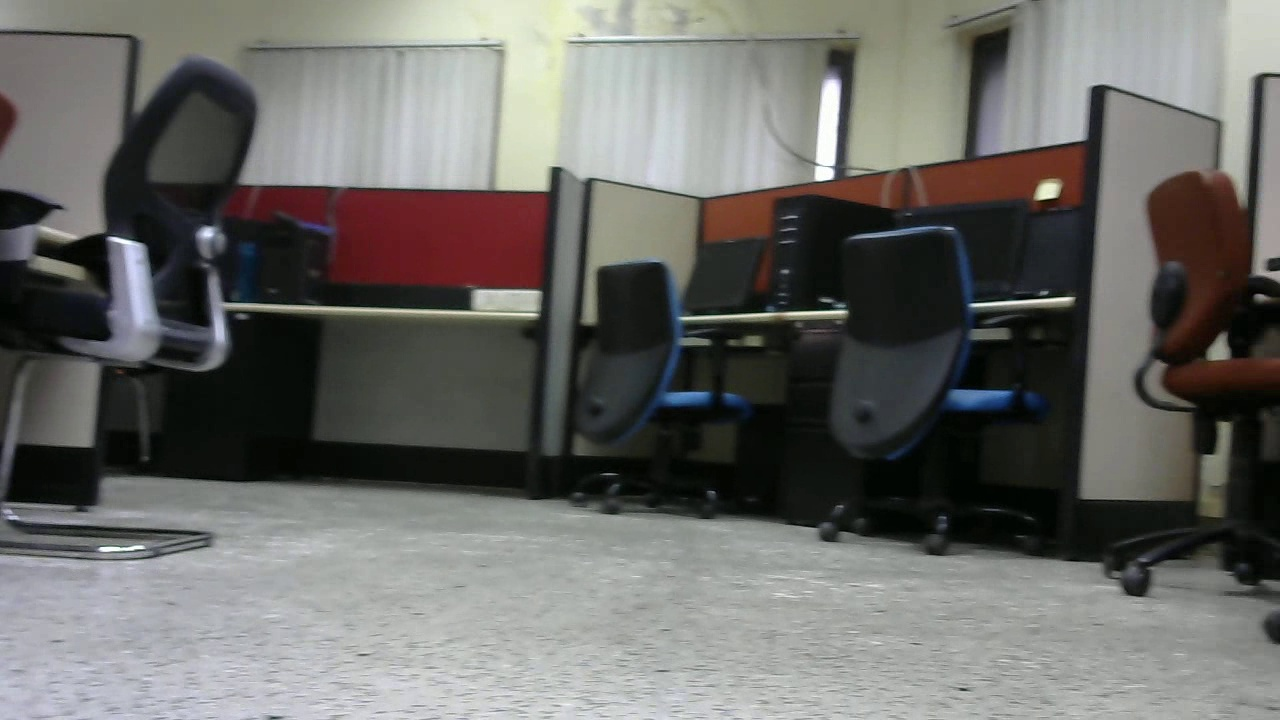chair: (1, 53, 265, 562), (815, 218, 1054, 562), (1105, 166, 1280, 597), (558, 253, 765, 513)
